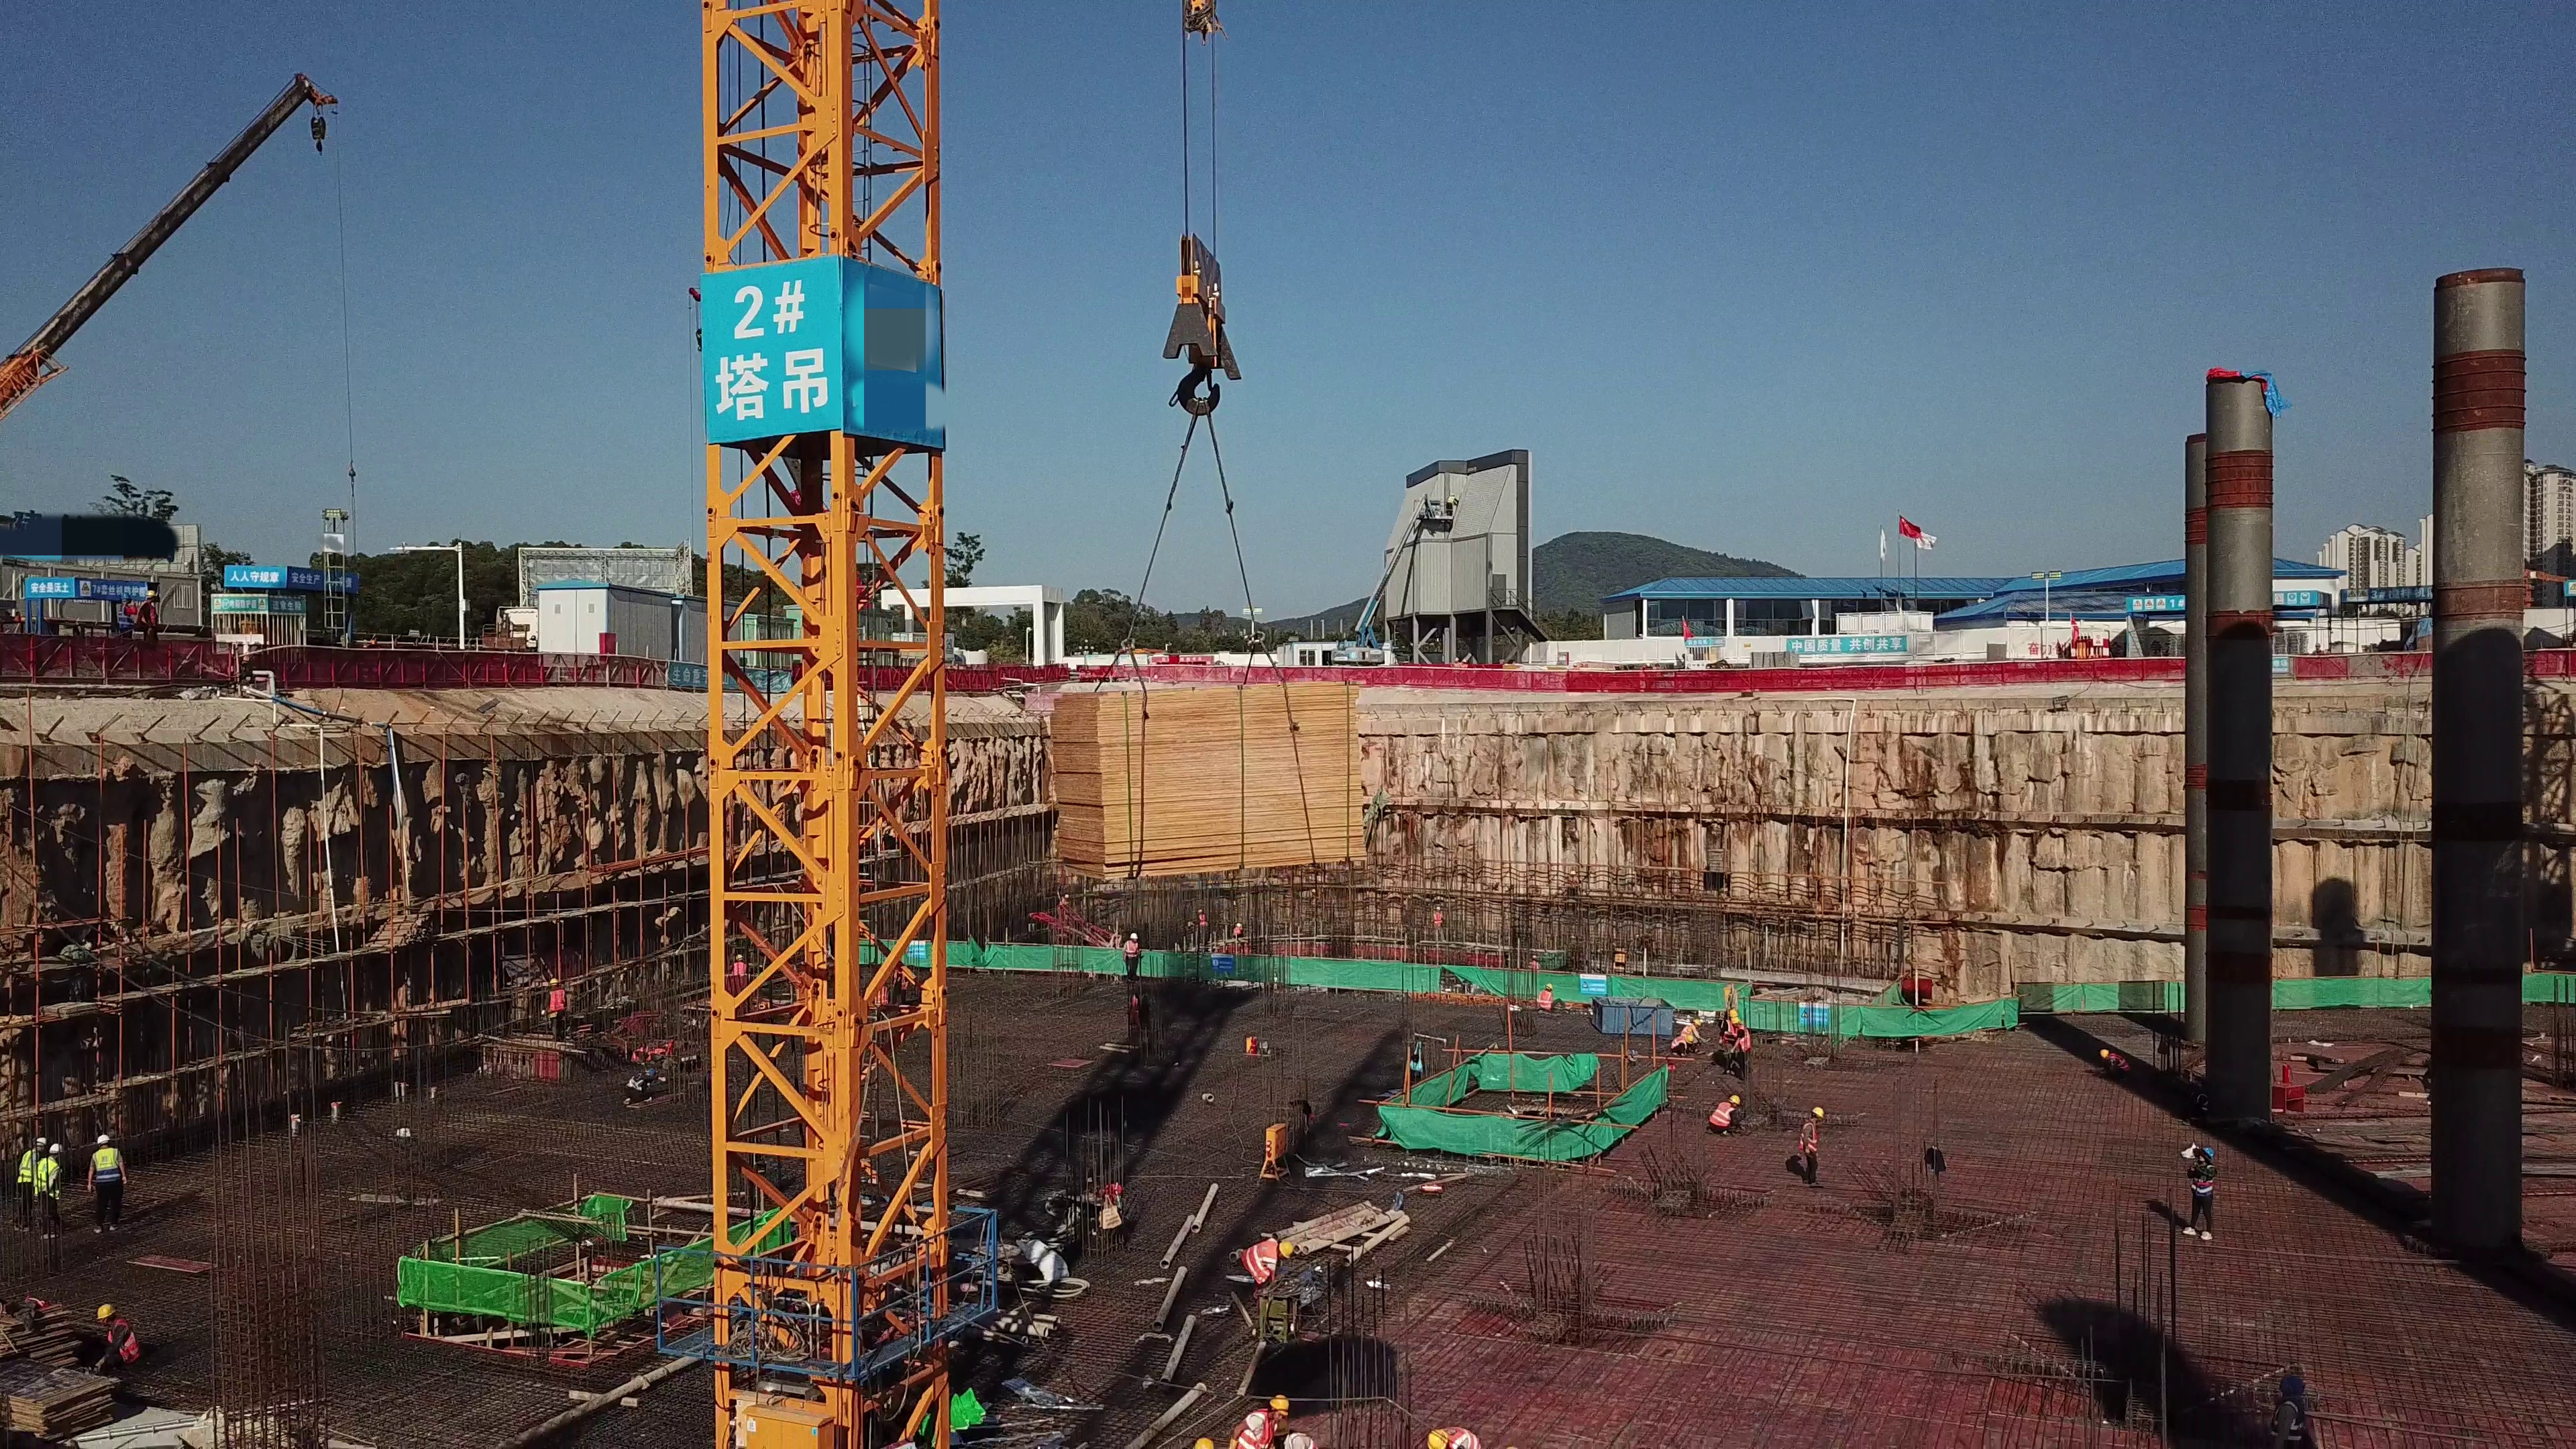helmet: (1187, 1430, 1218, 1449), (1425, 1430, 1446, 1449), (1278, 1242, 1295, 1263), (1271, 1395, 1289, 1413), (2200, 1144, 2214, 1160), (95, 1305, 117, 1317), (1729, 1094, 1743, 1106), (95, 1133, 112, 1142), (35, 1136, 47, 1148), (50, 1145, 64, 1155), (547, 977, 561, 985), (145, 586, 155, 596), (646, 1067, 656, 1077), (1813, 1107, 1823, 1118), (1729, 1009, 1739, 1017), (2098, 1049, 2108, 1059), (1546, 982, 1554, 991), (1731, 1016, 1740, 1024), (1685, 1034, 1694, 1043), (1128, 933, 1139, 940), (120, 593, 132, 598), (1693, 1019, 1702, 1025), (1236, 923, 1242, 928)
person: (1233, 1231, 1303, 1308), (95, 1298, 150, 1383), (86, 1127, 128, 1237), (2180, 1132, 2218, 1243), (1227, 1391, 1291, 1449), (1710, 1087, 1756, 1149), (1796, 1102, 1829, 1188), (37, 1142, 64, 1247), (1719, 1008, 1753, 1081), (17, 1133, 37, 1233), (622, 1063, 660, 1111), (541, 975, 567, 1041), (137, 586, 160, 645), (1121, 930, 1146, 991), (113, 590, 137, 653), (1424, 1424, 1481, 1449), (2094, 1045, 2133, 1079), (1540, 979, 1569, 1013), (729, 949, 751, 989), (1284, 1428, 1323, 1449), (1431, 902, 1450, 948), (1670, 1033, 1697, 1060), (1678, 1018, 1710, 1036), (1525, 950, 1547, 972), (1193, 909, 1211, 933), (1230, 920, 1245, 938)
vest: (1240, 1407, 1273, 1449), (1243, 1241, 1277, 1277), (109, 1322, 137, 1361), (93, 1150, 121, 1182), (1448, 1425, 1483, 1447), (20, 1150, 38, 1187), (2192, 1163, 2212, 1195), (38, 1159, 55, 1194), (140, 600, 157, 627), (549, 987, 566, 1014), (1713, 1102, 1729, 1130), (1803, 1120, 1817, 1151), (1738, 1026, 1753, 1051), (625, 1073, 643, 1091), (117, 604, 133, 627), (1123, 940, 1139, 960), (1723, 1022, 1735, 1044), (2109, 1054, 2127, 1070), (1540, 989, 1552, 1011), (1671, 1034, 1685, 1050), (1681, 1022, 1694, 1033), (1198, 914, 1207, 925), (1233, 928, 1240, 936)
